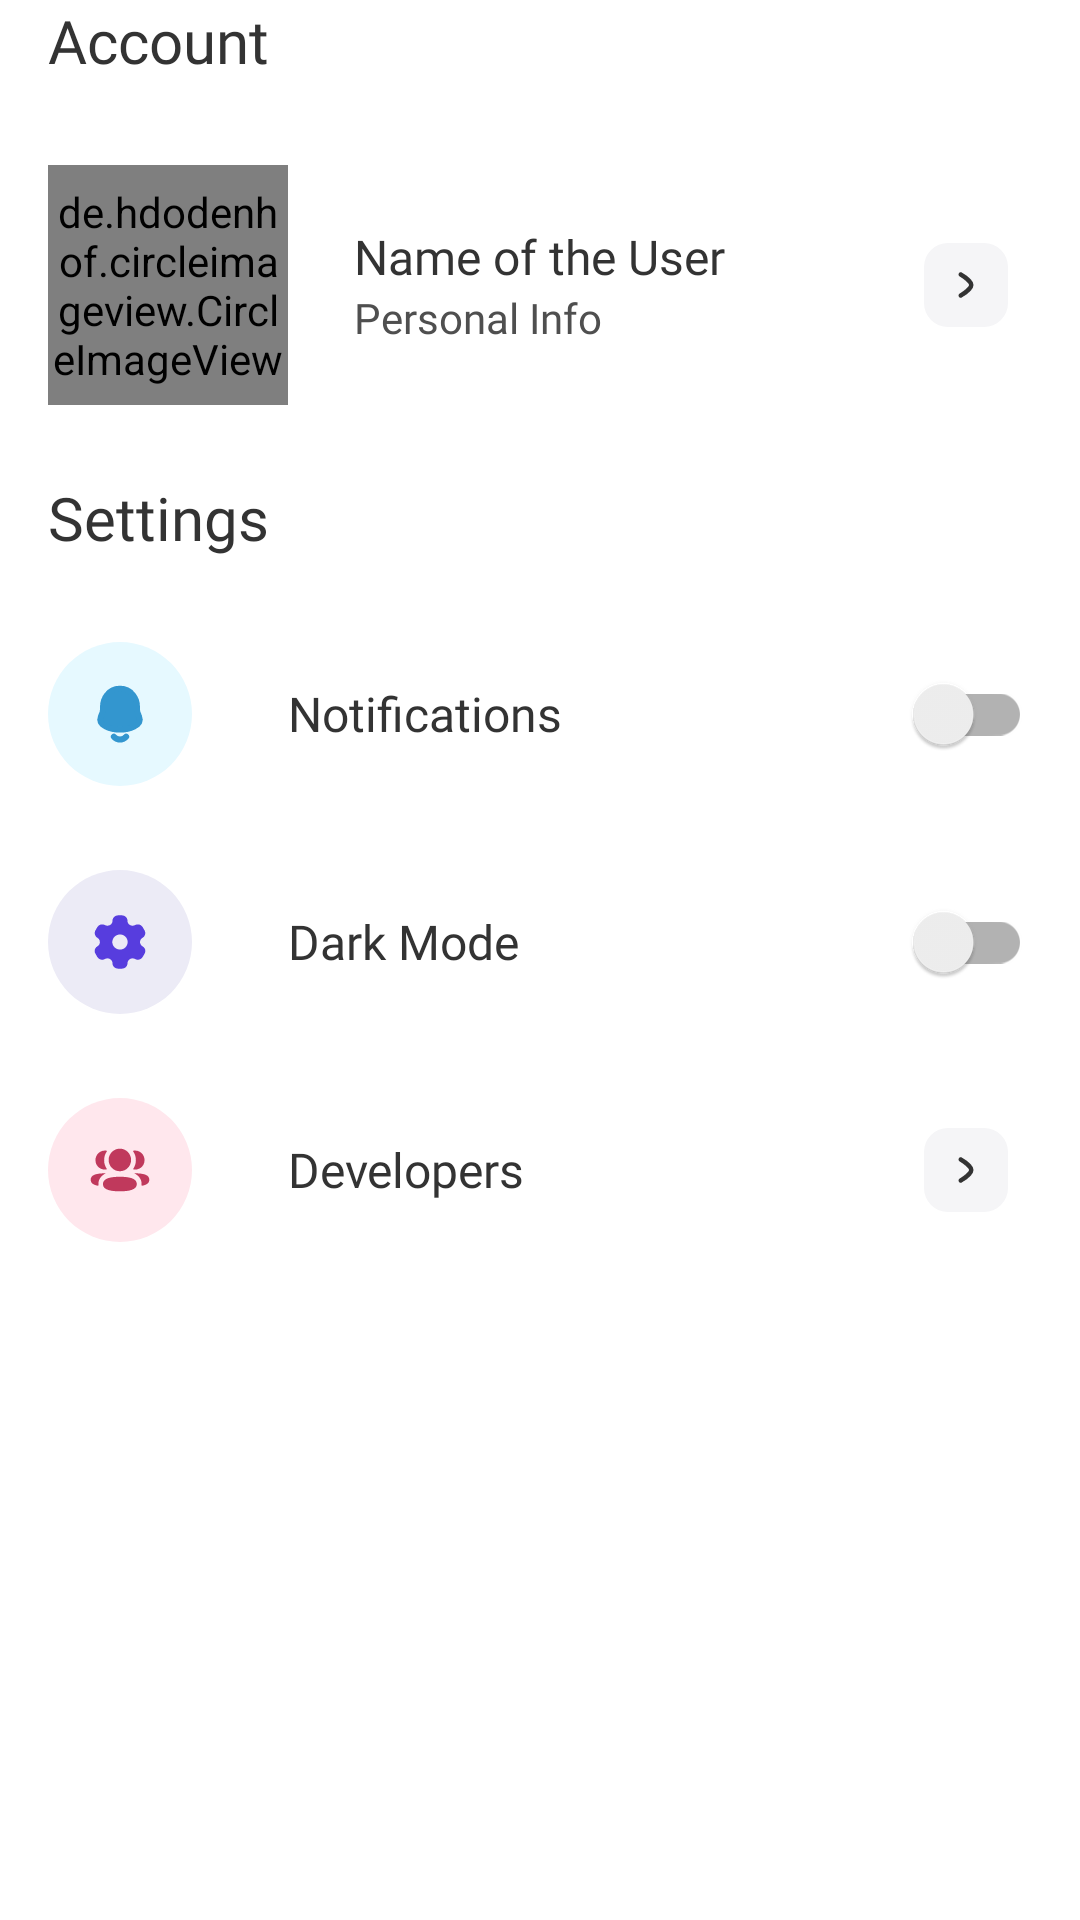

Locate icon controls on the screen. Image size 1080w x 1920h, boxes as (x1, y1, x2, y2).
rightbutton: (924, 243, 1008, 327), (924, 1128, 1008, 1212)
